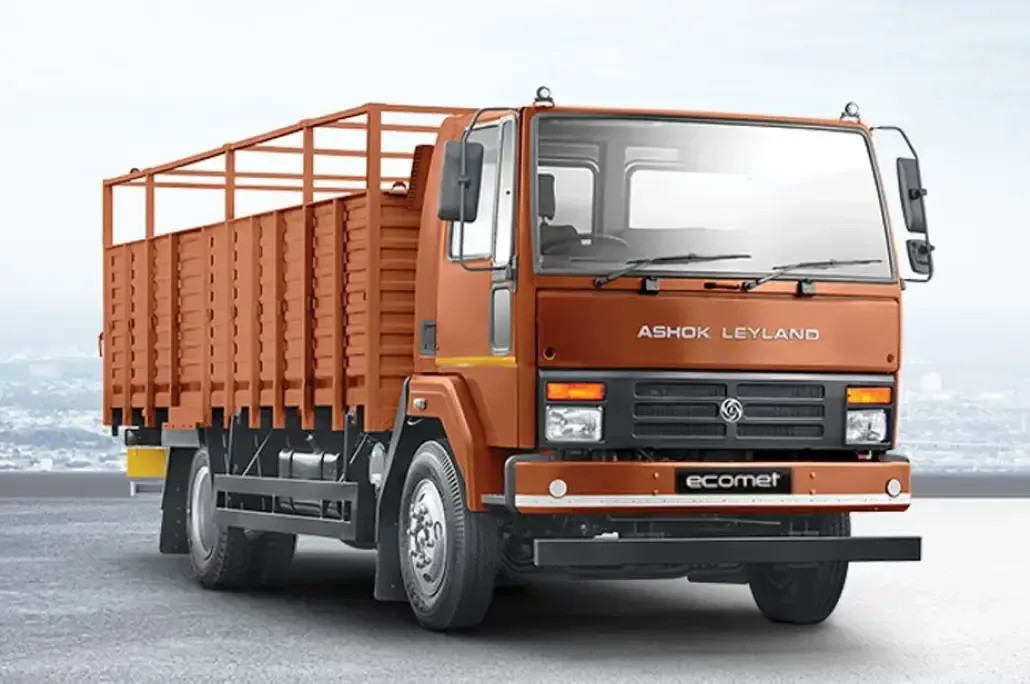truck: (98, 85, 935, 636)
